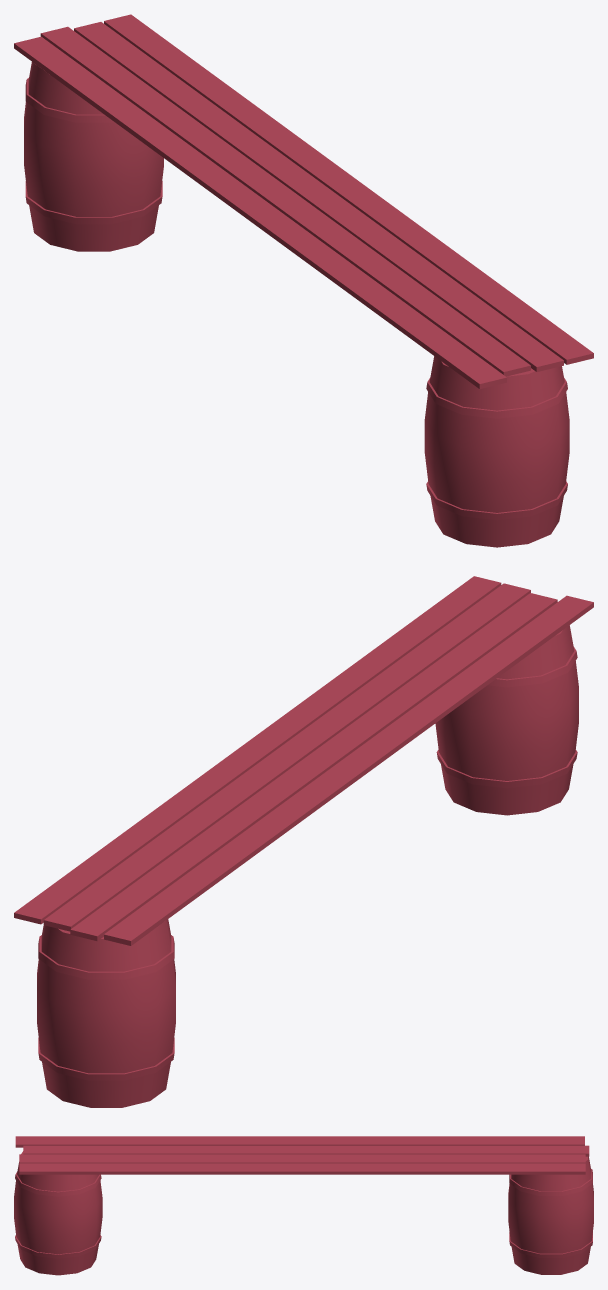
Rendered from display.fbx.
The picture shows the model from 3 angles, top to bottom: view 1: azimuth 30°, elevation 25°; view 2: azimuth 150°, elevation 25°; view 3: azimuth 270°, elevation 25°; orthographic projection. The views are drawn at different scales.
Visible parts, largest first — view 1: polySurface4905; view 2: polySurface4905; view 3: polySurface4905.
Boxes of the visible parts, <box> form: polySurface4905: <box>14,14,593,547</box>; polySurface4905: <box>14,576,593,1107</box>; polySurface4905: <box>14,1136,593,1275</box>.
Size of the model in its own units: 0.5385 by 0.7069 by 3.46.
